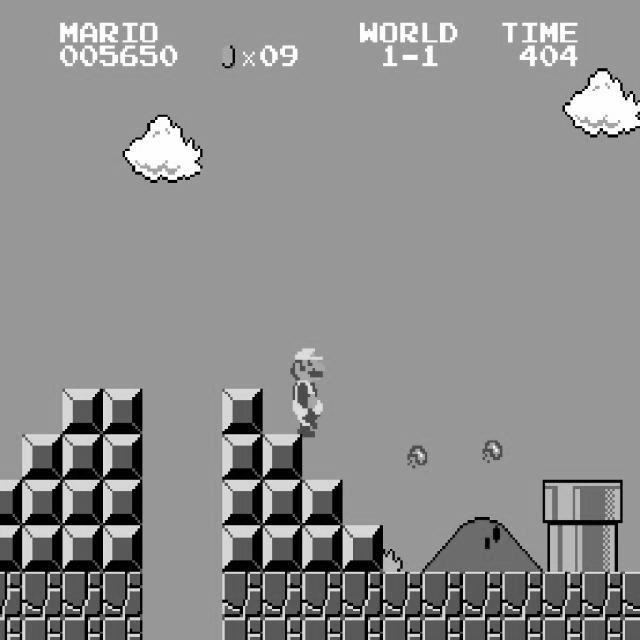14- pipe: (542, 526, 583, 572), (582, 526, 623, 572)
15- pipe_head: (542, 480, 583, 526), (582, 480, 623, 526)
17- undestructible_block: (22, 572, 63, 618), (62, 572, 103, 618), (102, 572, 143, 618), (222, 572, 263, 618), (262, 572, 303, 618), (302, 572, 343, 618), (342, 572, 383, 618), (382, 572, 423, 618), (422, 572, 463, 618), (462, 572, 503, 618), (502, 572, 543, 618), (542, 572, 583, 618), (582, 572, 623, 618), (0, 572, 22, 618), (22, 617, 63, 640), (62, 617, 103, 640), (102, 617, 143, 640), (222, 617, 263, 640), (262, 617, 303, 640), (302, 617, 343, 640), (342, 617, 383, 640), (382, 617, 423, 640), (422, 617, 463, 640), (462, 617, 503, 640), (502, 617, 543, 640), (542, 617, 583, 640), (582, 617, 623, 640), (622, 571, 640, 617), (0, 617, 22, 640), (622, 617, 640, 639)
4- fire_mario: (284, 346, 328, 440)
5- fireball: (482, 437, 502, 463), (408, 443, 428, 469)
9- hard_block: (22, 434, 63, 480), (22, 480, 63, 526), (22, 526, 63, 572), (62, 388, 103, 434), (62, 434, 103, 480), (62, 480, 103, 526), (62, 526, 103, 572), (102, 388, 143, 434), (102, 434, 143, 480), (102, 480, 143, 526), (102, 526, 143, 572), (222, 388, 263, 434), (222, 434, 263, 480), (222, 480, 263, 526), (222, 526, 263, 572), (262, 434, 303, 480), (262, 480, 303, 526), (262, 526, 303, 572), (302, 480, 343, 526), (302, 526, 343, 572), (342, 526, 383, 572), (0, 480, 22, 526), (0, 526, 22, 572)
